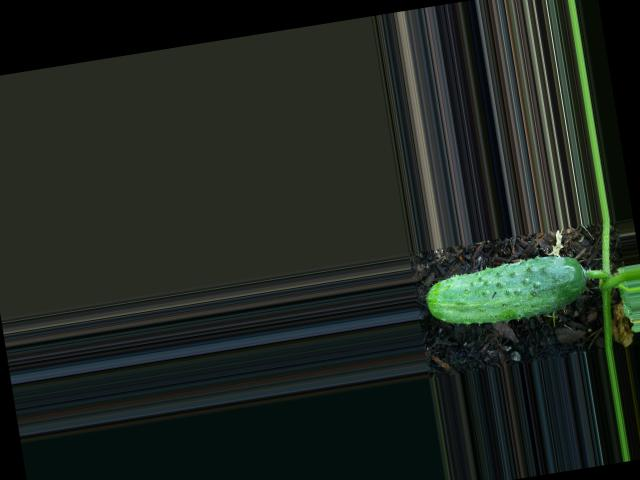cucumber: (421, 250, 590, 333)
